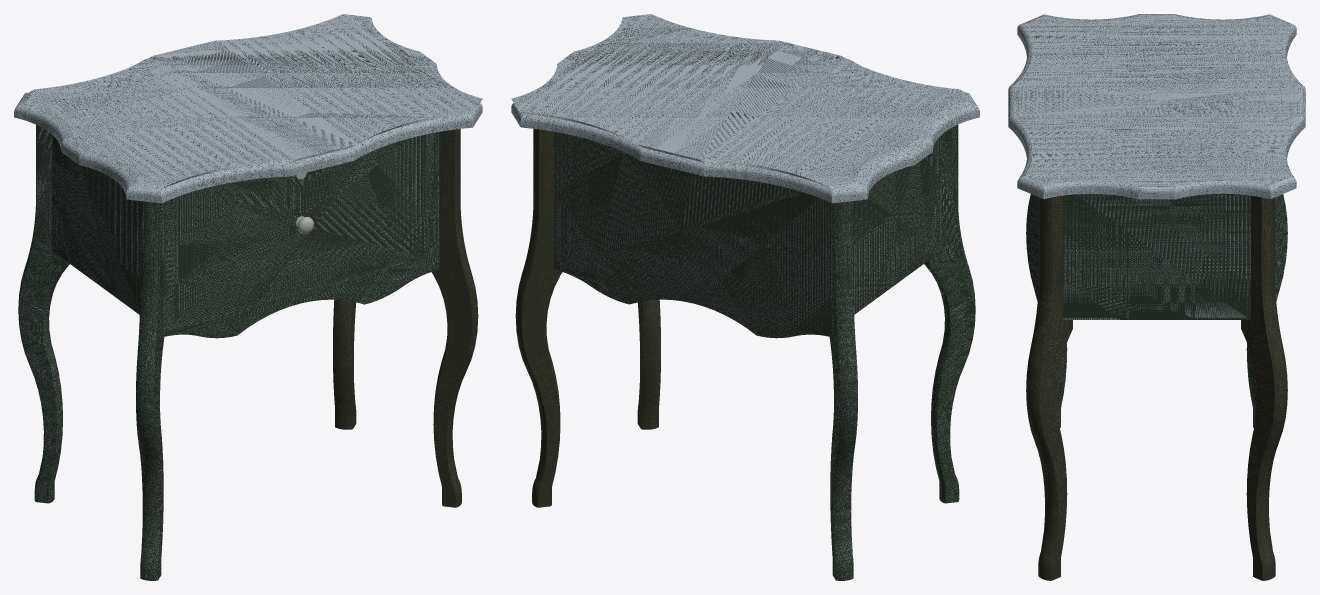
File: smalltable.fbx
The picture shows the model from 3 angles, left to right: view 1: azimuth 30°, elevation 25°; view 2: azimuth 150°, elevation 25°; view 3: azimuth 270°, elevation 25°; orthographic projection.
Visible parts, largest first — view 1: Group4; view 2: Group4; view 3: Group4.
Part boxes in pixels (box(x1,y1,x2,y2)): Group4: box(14, 14, 482, 580); Group4: box(511, 14, 979, 580); Group4: box(1008, 14, 1305, 580).
Size of the model in its own units: 0.563 by 0.6 by 0.4.
